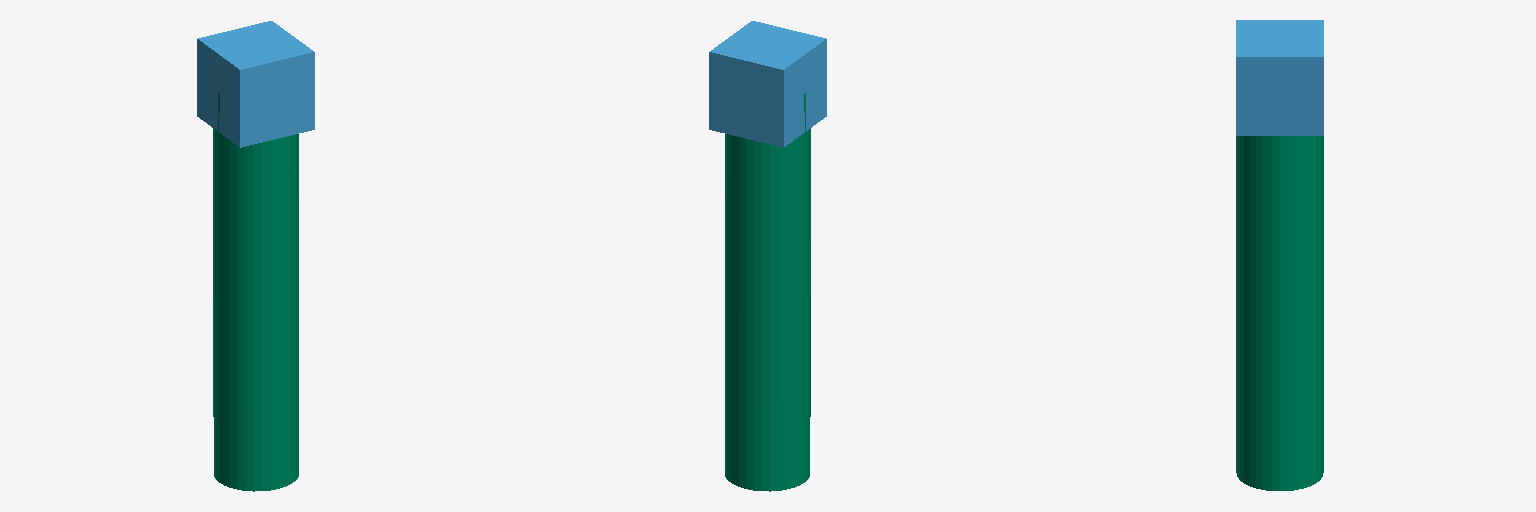
URDF robot description (Pendulum):
<?xml version="1.0"?>
<robot name="Pendulum">

  <link name="base"/>

  <joint name="fixed" type="fixed">
          <parent link="base"/>
          <child link="Pen_base"/>
  </joint>

  <link name="Pen_base">
    <visual>
      <geometry>
        <box size="0.1 0.1 0.1"/>
        <!-- <mesh filename="package://urdf_test/meshes/Pen_base.stl"/> -->
      </geometry>
    </visual>
    <inertial>
      <mass value="1"/>
      <inertia ixx="0.4" ixy="0.0" ixz="0.0" iyy="0.4" iyz="0.0" izz="0.2"/>
    </inertial>
  </link>

  <joint name="base_to_pen_rev1" type="continuous">
    <axis xyz="0 0 1"/>
    <parent link="Pen_base"/>
    <child link="Pen_link"/>
    <origin rpy="0 1.57 0" xyz="0 0 0"/>
  </joint>

  <link name="Pen_link">
    <visual>
      <geometry>
        <cylinder radius="0.05" length=".5"/>
        <!-- <mesh filename="package://urdf_test/meshes/Pen_link.stl"/> -->
      </geometry>
      <origin rpy="0 1.57 0" xyz="0.25 0 0"/>
      <!-- use stl file -->
      <!-- <origin rpy="0 1.57 0" xyz="0 0 0"/>  -->
    </visual>
    <inertial>
      <mass value="1"/>
      <inertia ixx="0.4" ixy="0.0" ixz="0.0" iyy="0.4" iyz="0.0" izz="0.2"/>
    </inertial>
  </link>

</robot>

--- Render facts (derived) ---
3 views of the same robot in one strip: view 1: azimuth 30°, elevation 25°; view 2: azimuth 150°, elevation 25°; view 3: azimuth 270°, elevation 25° (orthographic).
Model Pendulum with 3 links and 2 joints (1 continuous, 1 fixed), rooted at base, posed every joint at zero.
Links seen in each view (by area): view 1: Pen_link, Pen_base; view 2: Pen_link, Pen_base; view 3: Pen_link, Pen_base.
Boxes of the visible links, <box> form: Pen_link: <box>213,93,298,491</box>; Pen_base: <box>197,21,314,147</box>; Pen_link: <box>725,93,810,491</box>; Pen_base: <box>709,21,826,147</box>; Pen_link: <box>1236,136,1323,490</box>; Pen_base: <box>1236,20,1323,135</box>.
Bounding box of the posed robot: 0.1008 × 0.1 × 0.5501 m (x, y, z).
Geometry: primitives only (box / cylinder / sphere), no mesh files.